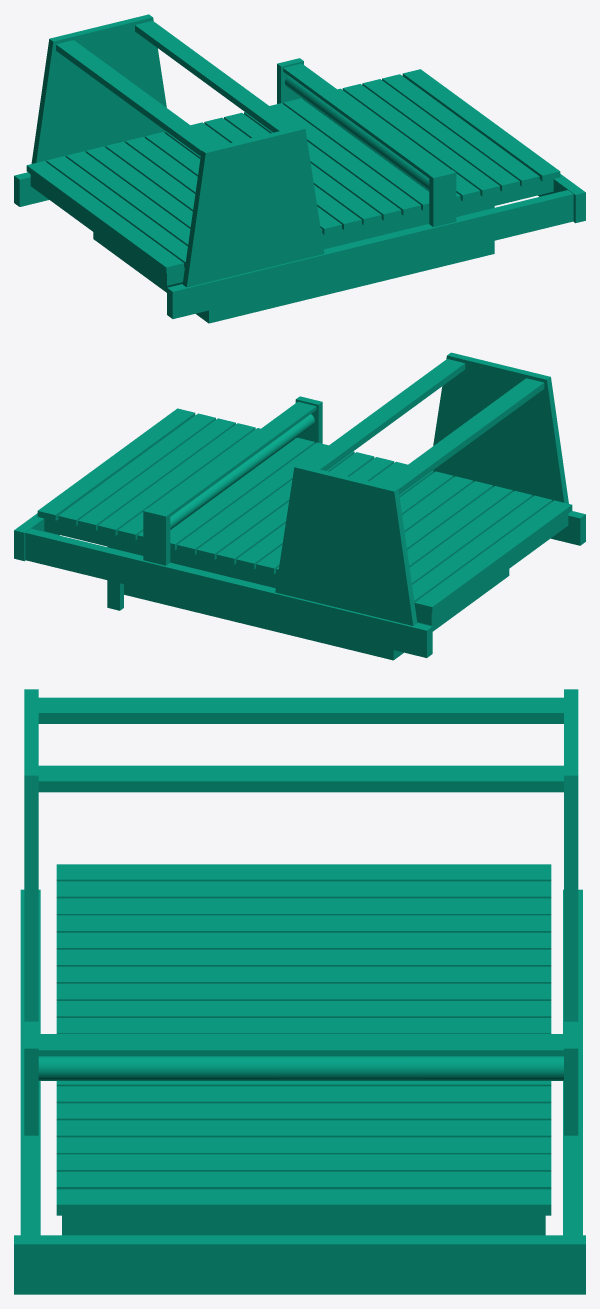
Rendered from Factory_Machine_04_Lod0.fbx.
3 renders of one model, top to bottom at view 1: azimuth 30°, elevation 25°; view 2: azimuth 150°, elevation 25°; view 3: azimuth 270°, elevation 25°, orthographic. The views are drawn at different scales.
Parts seen in each view (by area): view 1: Factory_Machine_04_Lod0; view 2: Factory_Machine_04_Lod0; view 3: Factory_Machine_04_Lod0.
Part boxes in pixels (x1=…): Factory_Machine_04_Lod0: x1=14, y1=14, x2=585, y2=323; Factory_Machine_04_Lod0: x1=14, y1=352, x2=585, y2=660; Factory_Machine_04_Lod0: x1=14, y1=689, x2=585, y2=1294.
Bounding box in the file's own units: 481 × 212 × 327.
